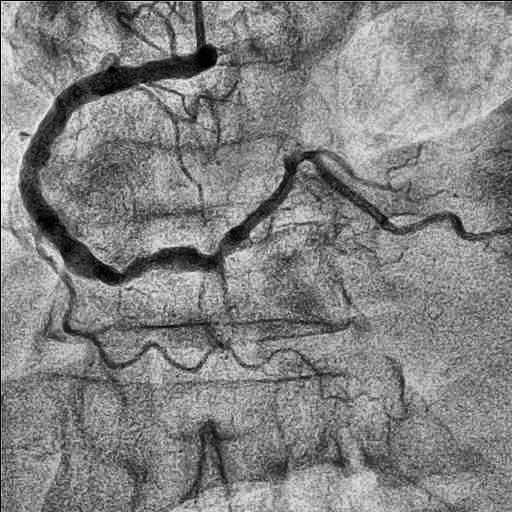pborca: (216, 151, 498, 256)
rca: (18, 54, 223, 285)
